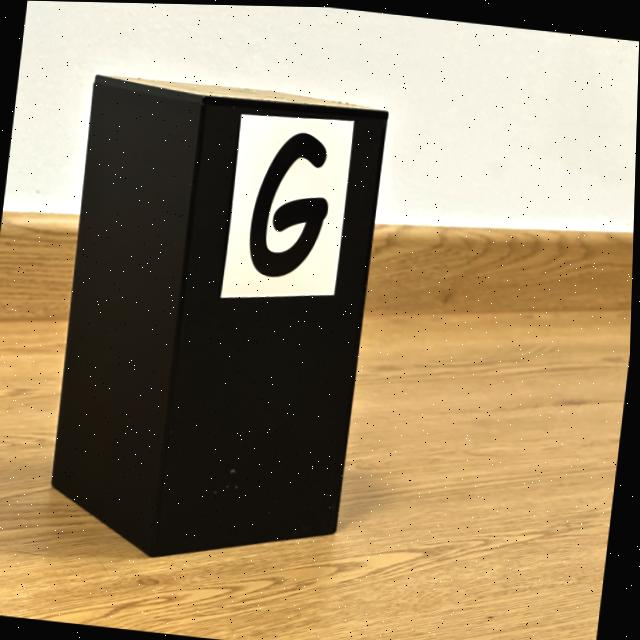G: (250, 130, 329, 275)
